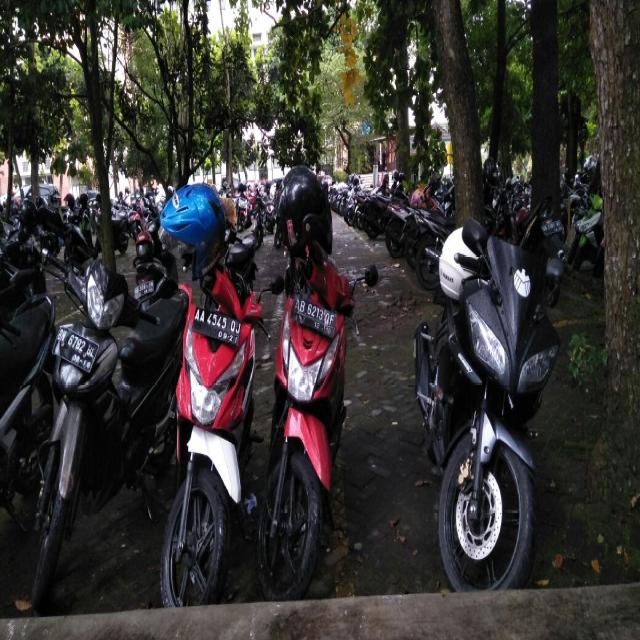plate: (52, 324, 97, 374), (190, 305, 242, 347), (289, 293, 337, 335)
